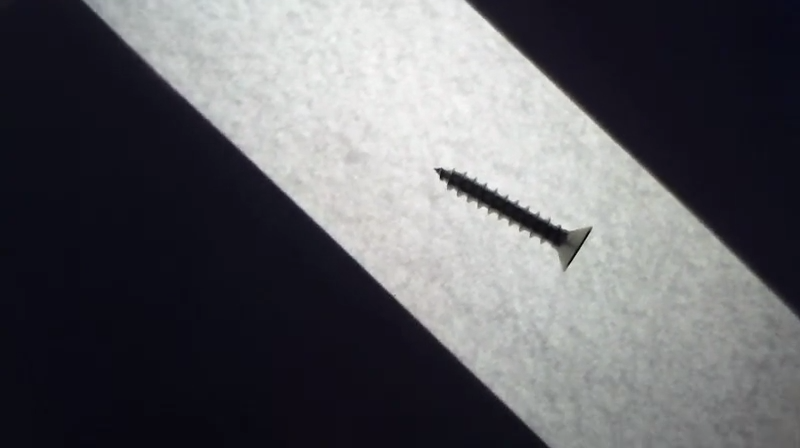S001: (428, 160, 598, 274)
